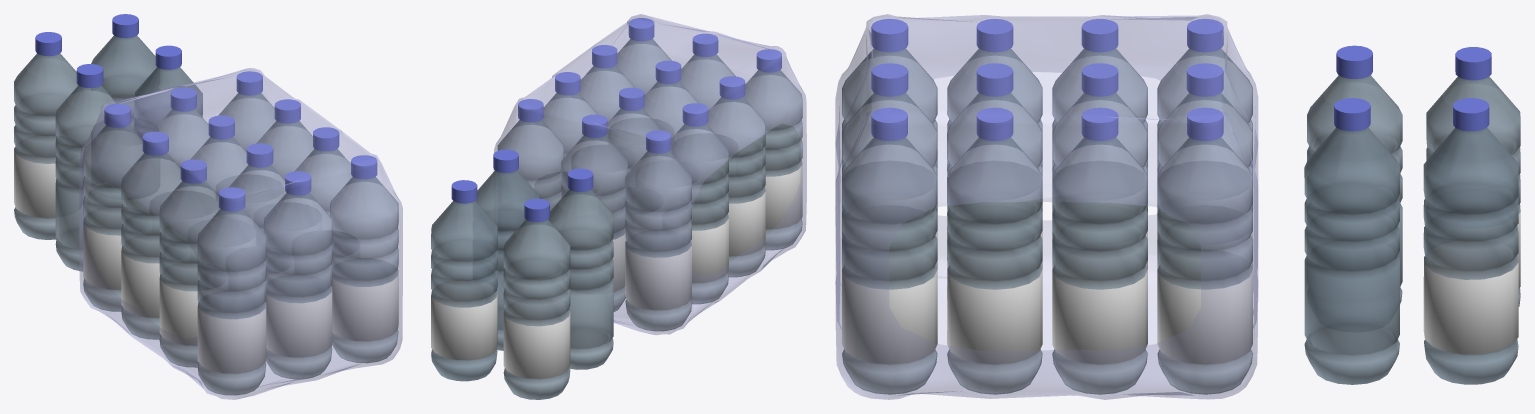
Rendered from bottleFBX.fbx.
3 renders of one model, left to right at view 1: azimuth 30°, elevation 25°; view 2: azimuth 150°, elevation 25°; view 3: azimuth 270°, elevation 25°, orthographic. The views are drawn at different scales.
Parts seen in each view (by area): view 1: Object_2, Object_4, Object_3, Object_6; view 2: Object_4, Object_2, Object_3, Object_6; view 3: Object_4, Object_2, Object_3, Object_6.
Boxes of the visible parts, bbox=[...] form: Object_2: bbox=[79, 68, 402, 399]; Object_4: bbox=[14, 35, 398, 395]; Object_3: bbox=[14, 118, 398, 373]; Object_6: bbox=[35, 14, 377, 211]; Object_4: bbox=[431, 39, 802, 399]; Object_2: bbox=[494, 14, 806, 334]; Object_3: bbox=[431, 149, 802, 378]; Object_6: bbox=[451, 18, 781, 221]; Object_4: bbox=[842, 48, 1520, 394]; Object_2: bbox=[835, 14, 1258, 399]; Object_3: bbox=[842, 204, 1520, 364]; Object_6: bbox=[871, 18, 1491, 141].
Size of the model in its own units: 22.33 by 21.71 by 48.68.
